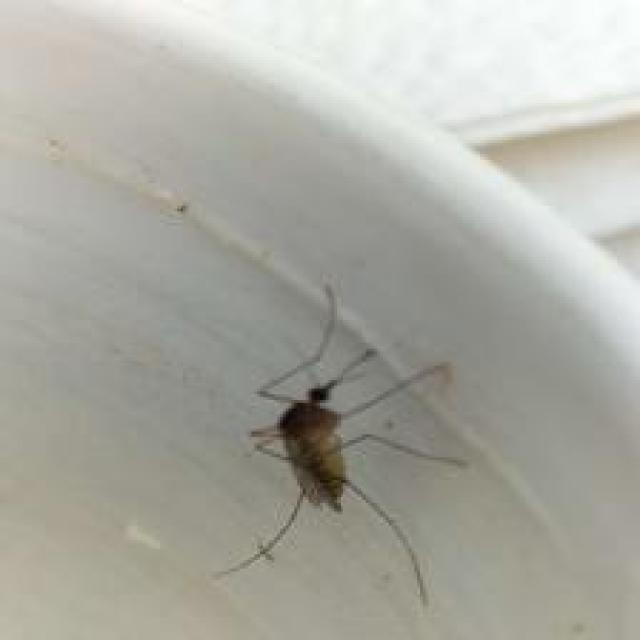Culex: (213, 281, 470, 610)
